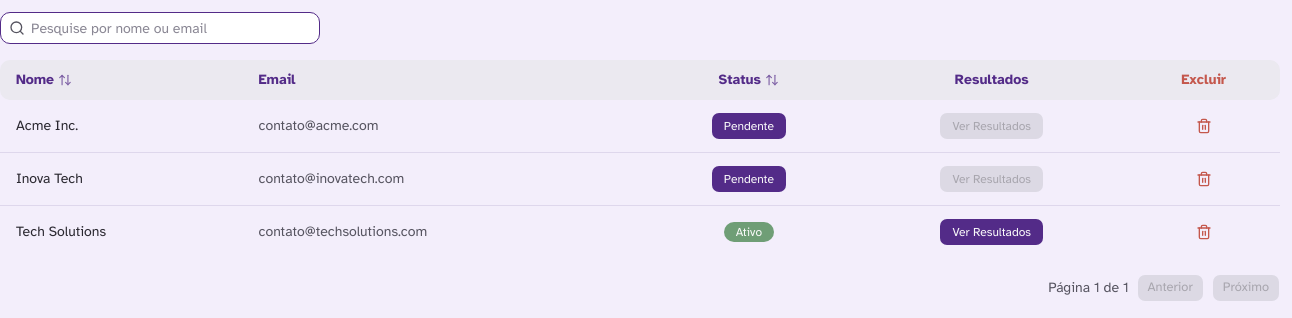
Scenario: CompanyTable › o mesmo campo acha também pelo email
Type "techsolutions" into the search field named "Pesquisar empresas por nome ou email" at (172, 28), box [25, 13, 319, 43]
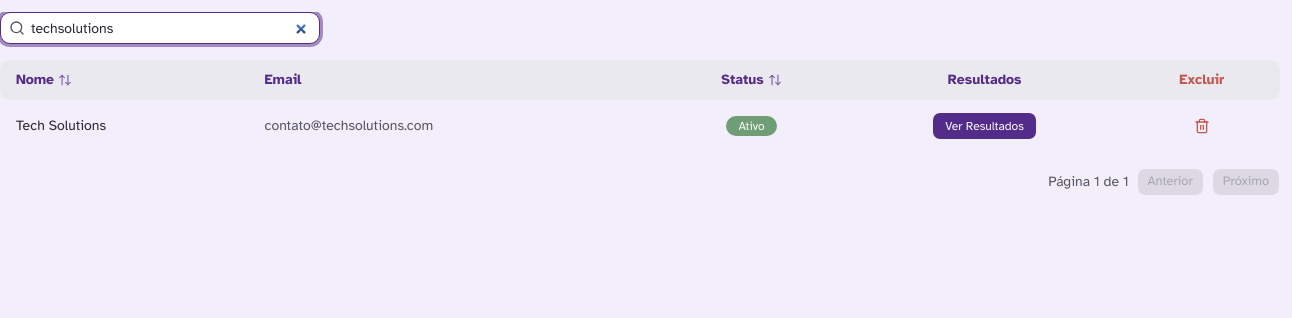
Expected: the text "Tech Solutions" is shown, [0, 100, 248, 152]
Expected: the text "Acme Inc." is gone
